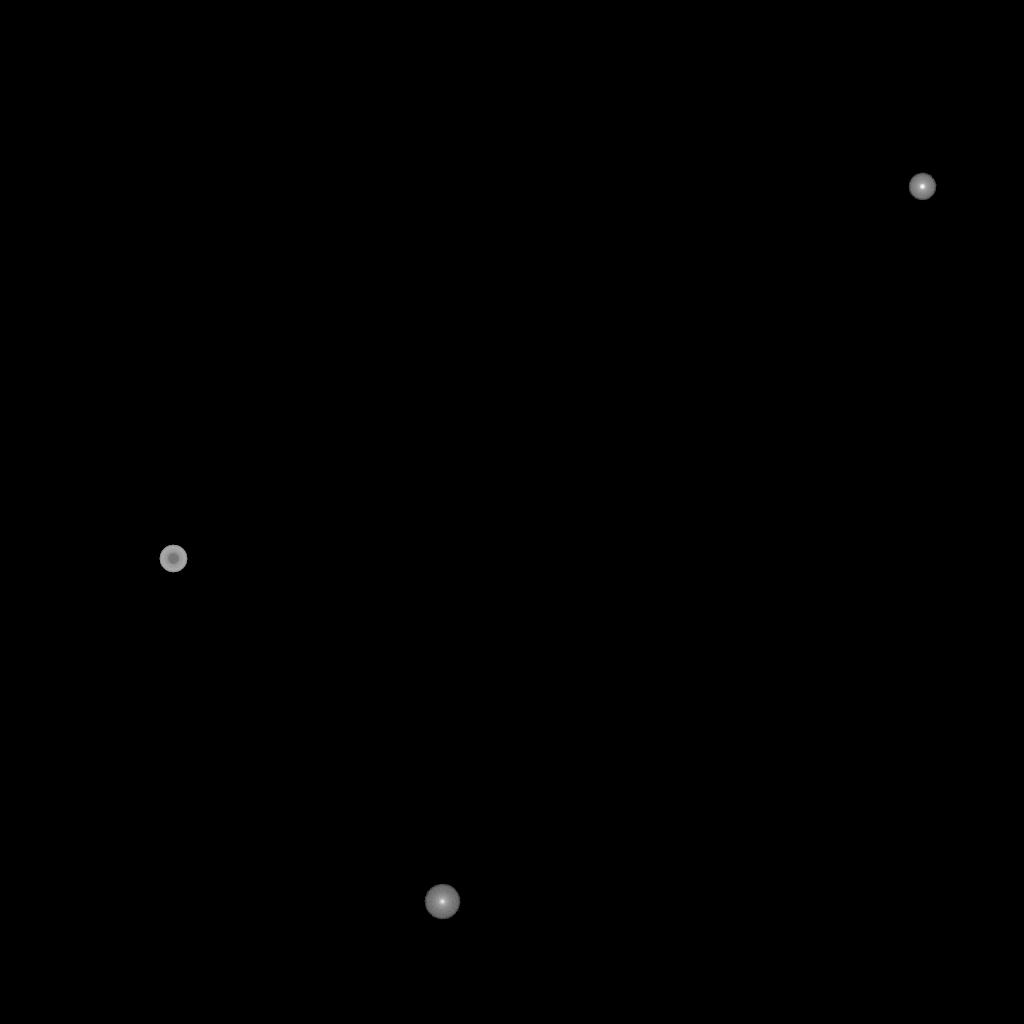depth:-10: (908, 173, 936, 201)
depth:-50: (159, 545, 187, 573)
depth:0: (424, 884, 460, 920)
